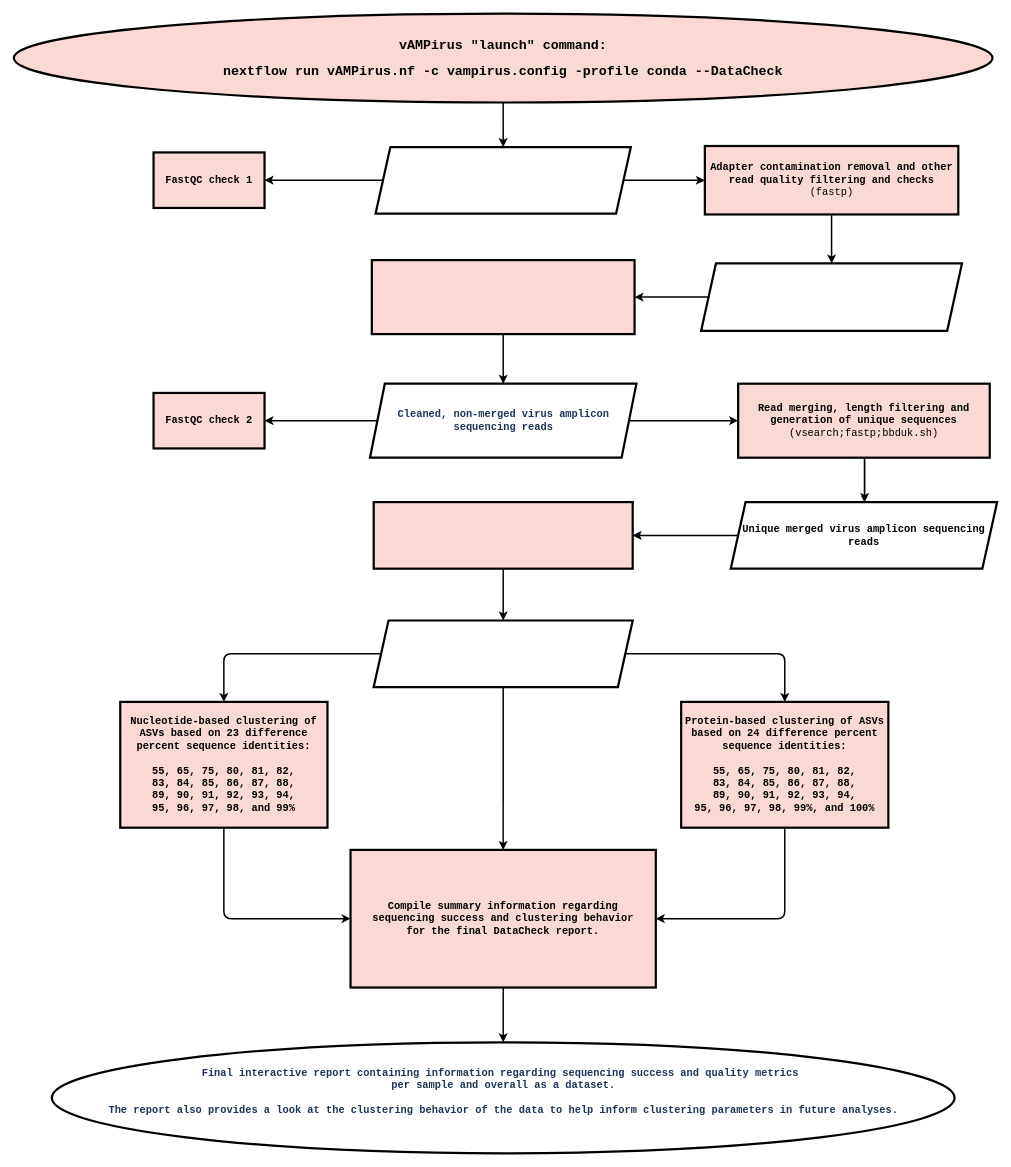
Some shapes in this 1011 by 1167 pixel diagram are drawn without their labels. The shapes that lost their labels are listed below. From the top down, each one's box as (x1, y1, x2, y2) in pixels, then its label:
(374, 146, 632, 214): Raw virus amplicon sequencing read libraries
(370, 259, 635, 335): Primer sequence removal from reads with pre-merging length filtering (bbduk.sh)
(700, 262, 963, 332): Virus amplicon sequencing reads with adapters removed
(372, 501, 633, 569): Amplicon Sequence Variant generation with chimera check/removal (vsearch)
(372, 619, 633, 688): Amplicon Sequence Variants (ASVs)
